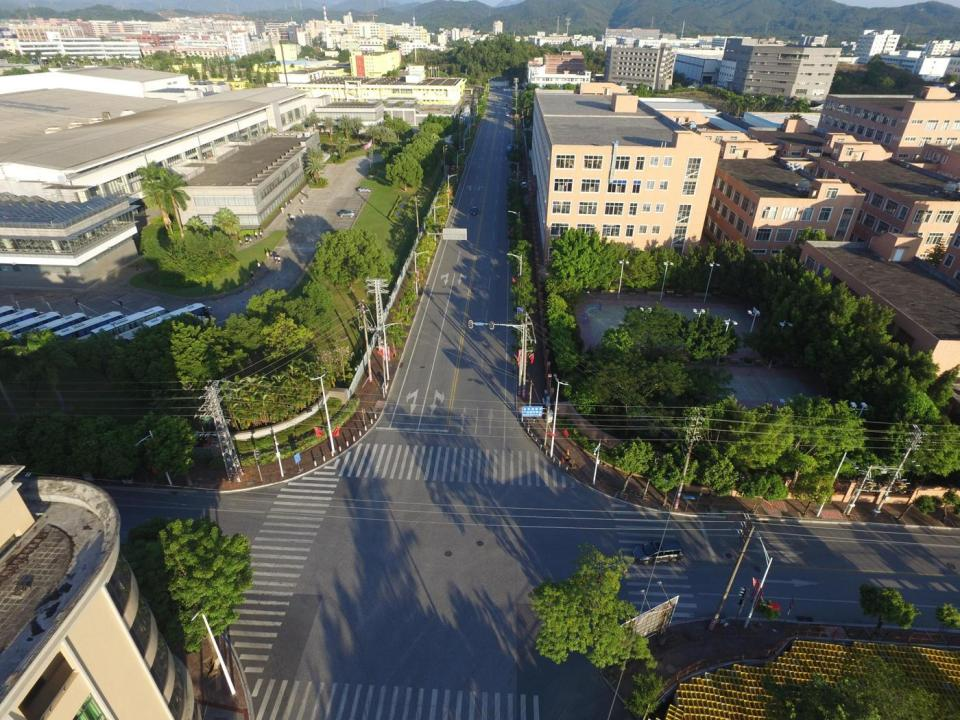bus: (92, 303, 212, 359), (1, 311, 93, 377), (63, 305, 167, 363), (25, 308, 128, 362), (0, 310, 62, 354), (0, 308, 40, 339), (0, 304, 18, 322)
car: (632, 538, 684, 567), (338, 209, 356, 218), (357, 186, 371, 193), (470, 206, 477, 216), (504, 111, 509, 117)
